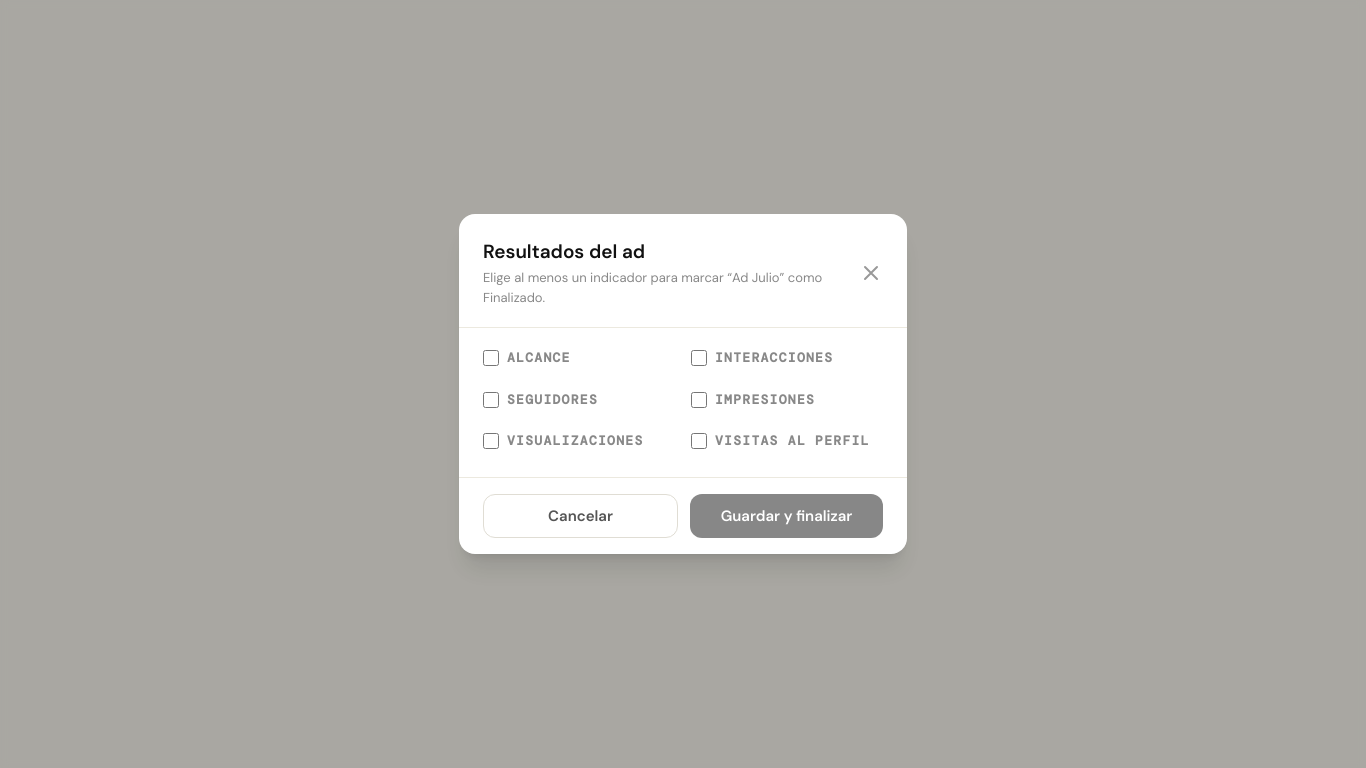
Scenario: AdsResultsModal › el botón de guardar está deshabilitado hasta seleccionar y llenar al menos 1 indicador
expect the button "Guardar y finalizar" is disabled: met, box [690,494,883,538]
Click the checkbox named "Incluir Alcance" at (491, 358), box [483,350,499,366]
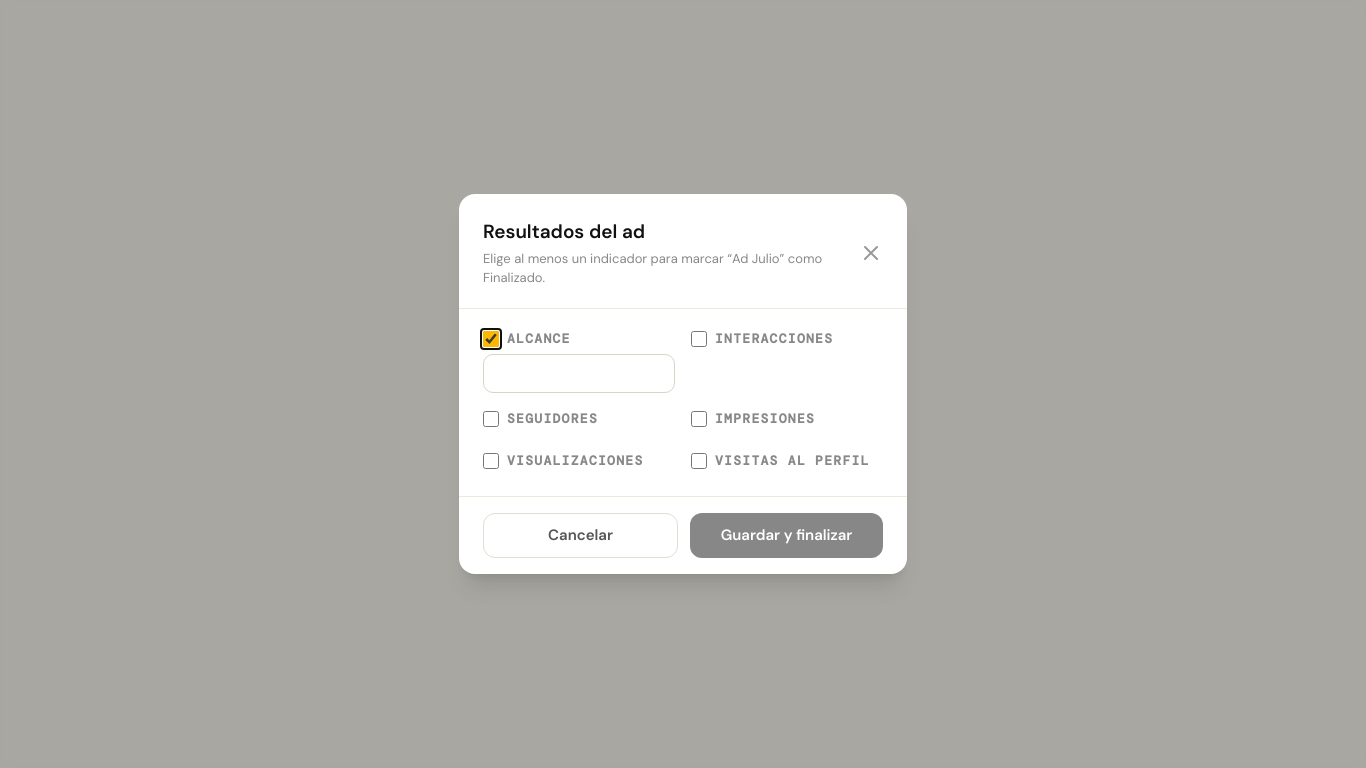
expect the button "Guardar y finalizar" is disabled: met, box [690,513,883,558]
Type "1000" into the number field named "Alcance" at (579, 374), box [483,354,675,393]
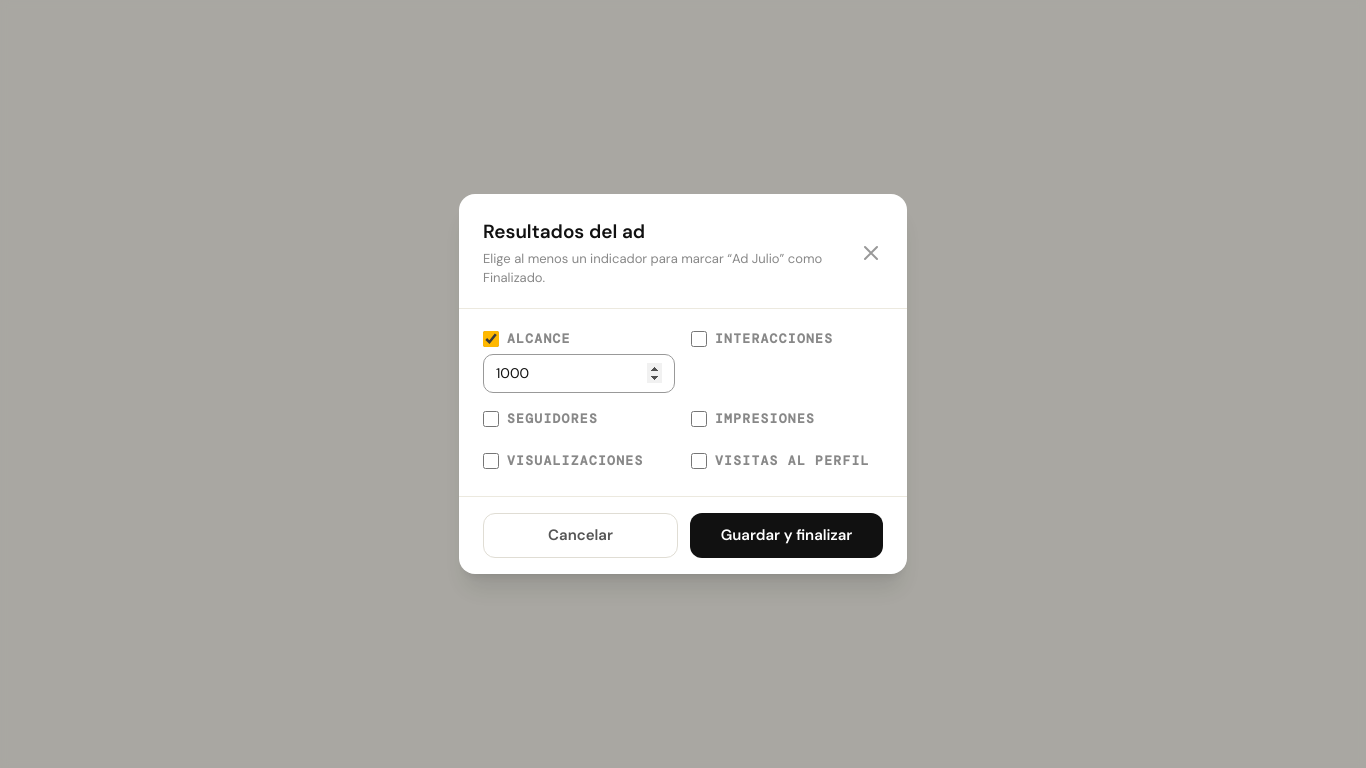
expect the button "Guardar y finalizar" is enabled: met, box [690,513,883,558]
